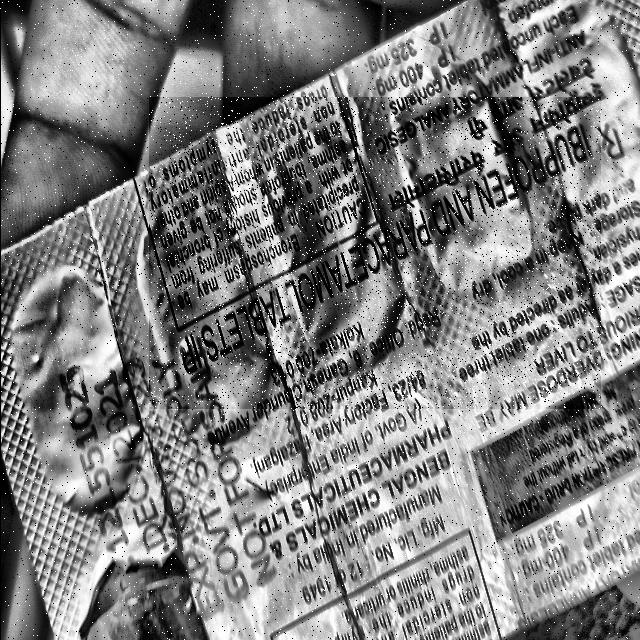IBUPROFEN AND PARACETAMOL TABLETS: (148, 97, 599, 408)
